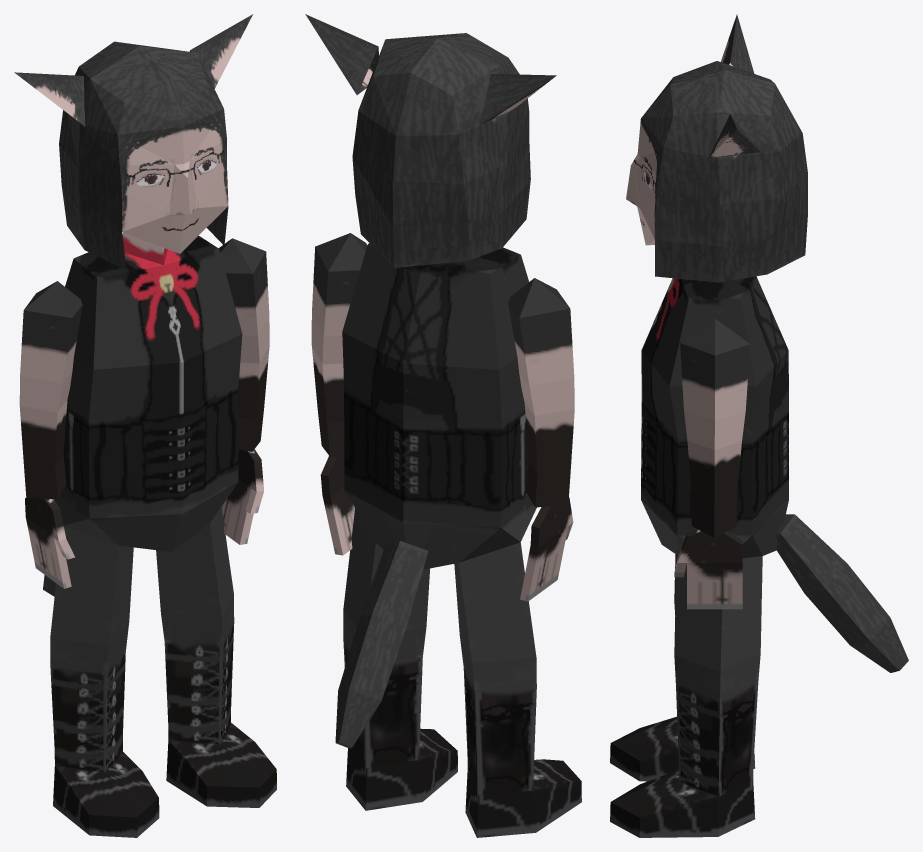
The model's file is benvr.dae.
3 renders of one model, left to right at view 1: azimuth 30°, elevation 25°; view 2: azimuth 150°, elevation 25°; view 3: azimuth 270°, elevation 25°, orthographic. The views are drawn at different scales.
Visible parts, largest first — view 1: Plane_001; view 2: Plane_001; view 3: Plane_001.
Part boxes in pixels (x1,y1,x2,y2): Plane_001: [14, 14, 276, 837]; Plane_001: [305, 14, 581, 837]; Plane_001: [610, 14, 908, 837].
Size of the model in its own units: 0.511 by 0.5379 by 1.44.
1 material, 1 textured.
